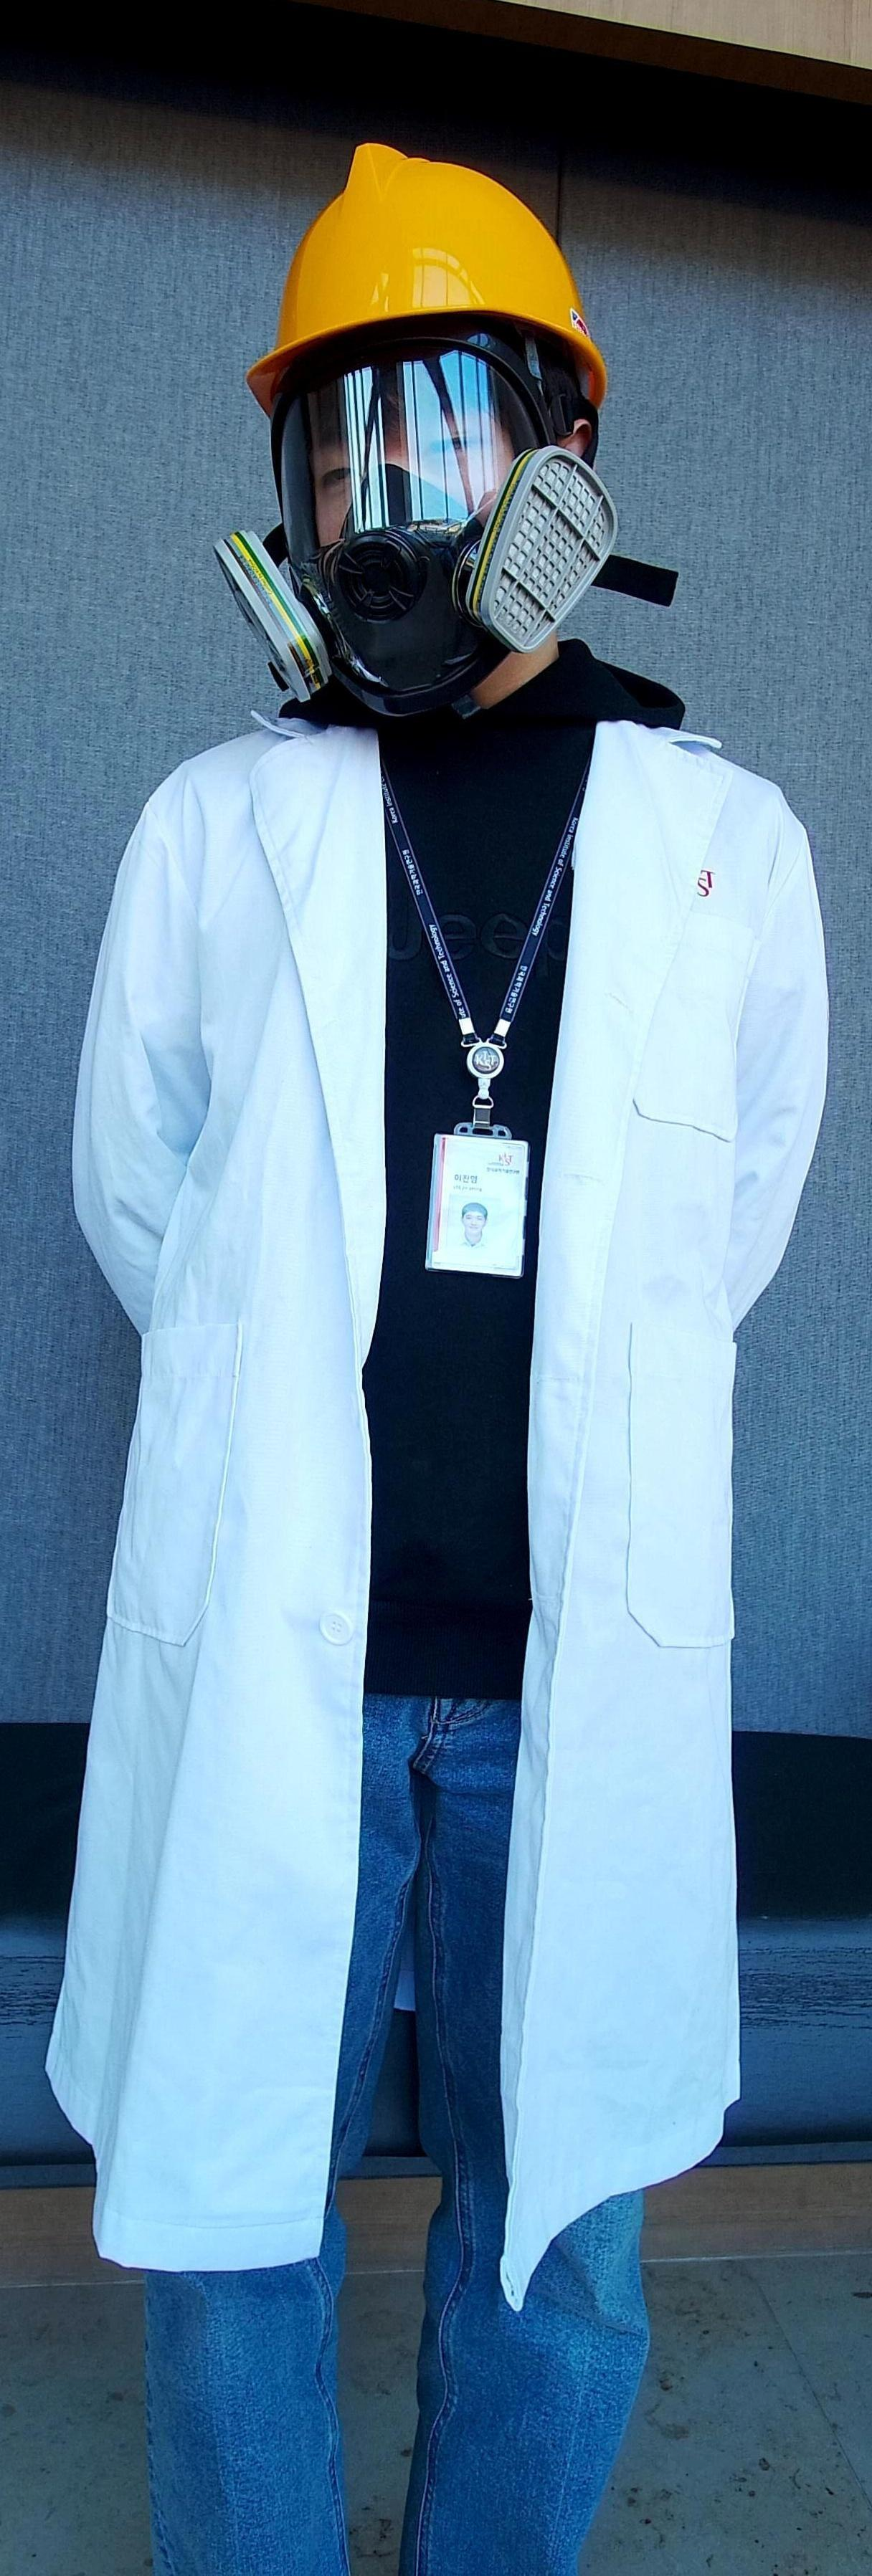lab_coat: (0, 761, 849, 2307)
